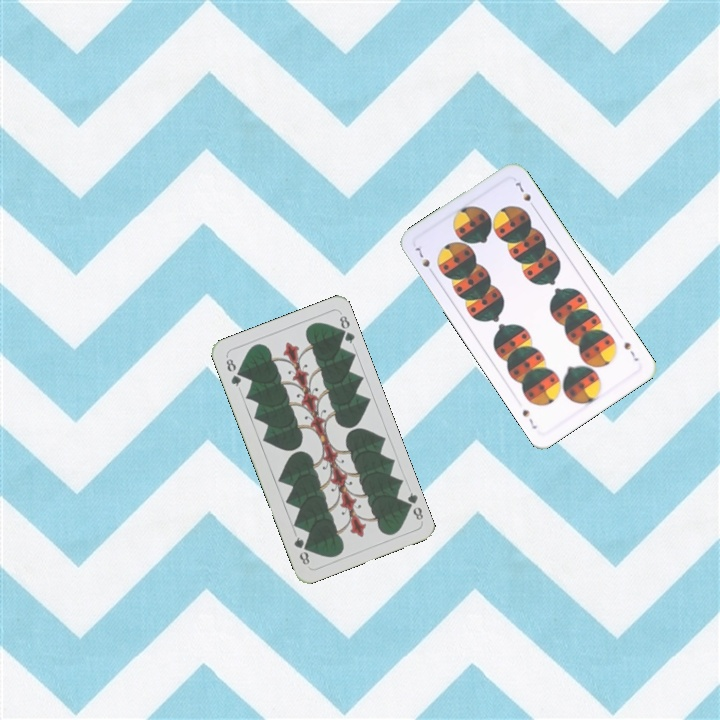G8: (399, 488, 426, 523), (222, 354, 244, 389)
S7: (410, 241, 437, 278), (620, 338, 641, 364)
